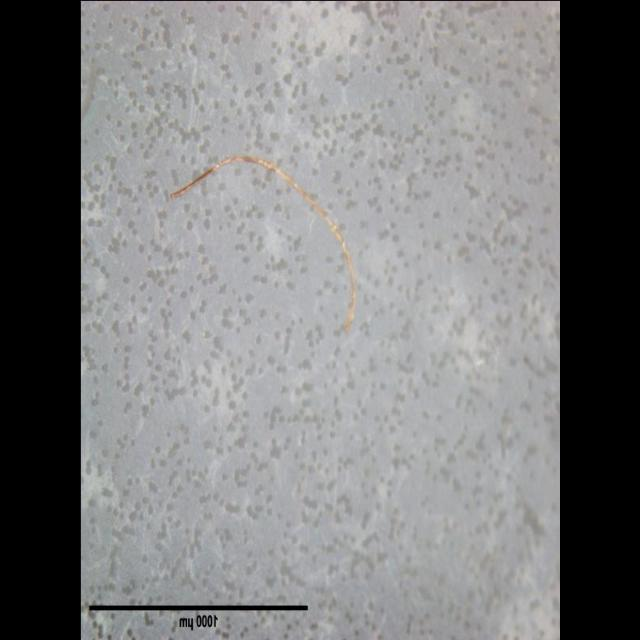Fibre: (168, 152, 356, 332)
